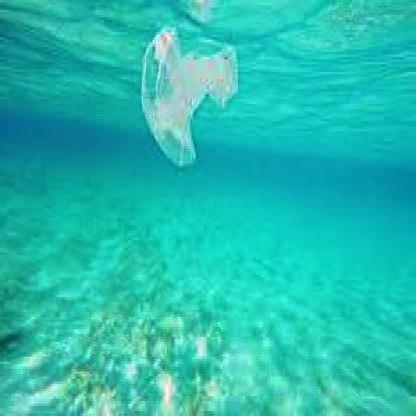pbag: (140, 22, 238, 168)
